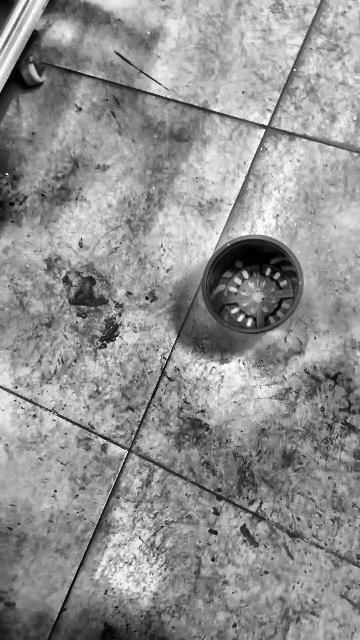pot: (201, 235, 303, 334)
